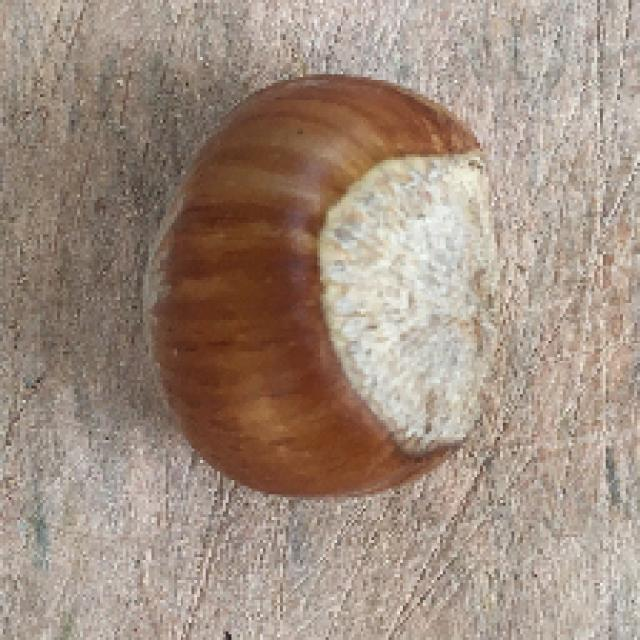qualityHazelnut: (127, 71, 516, 501)
